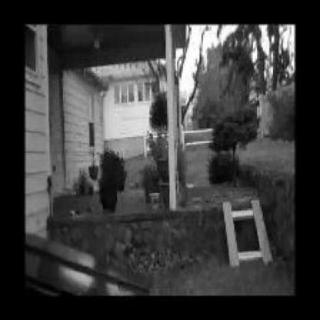other: (113, 241, 195, 268)
